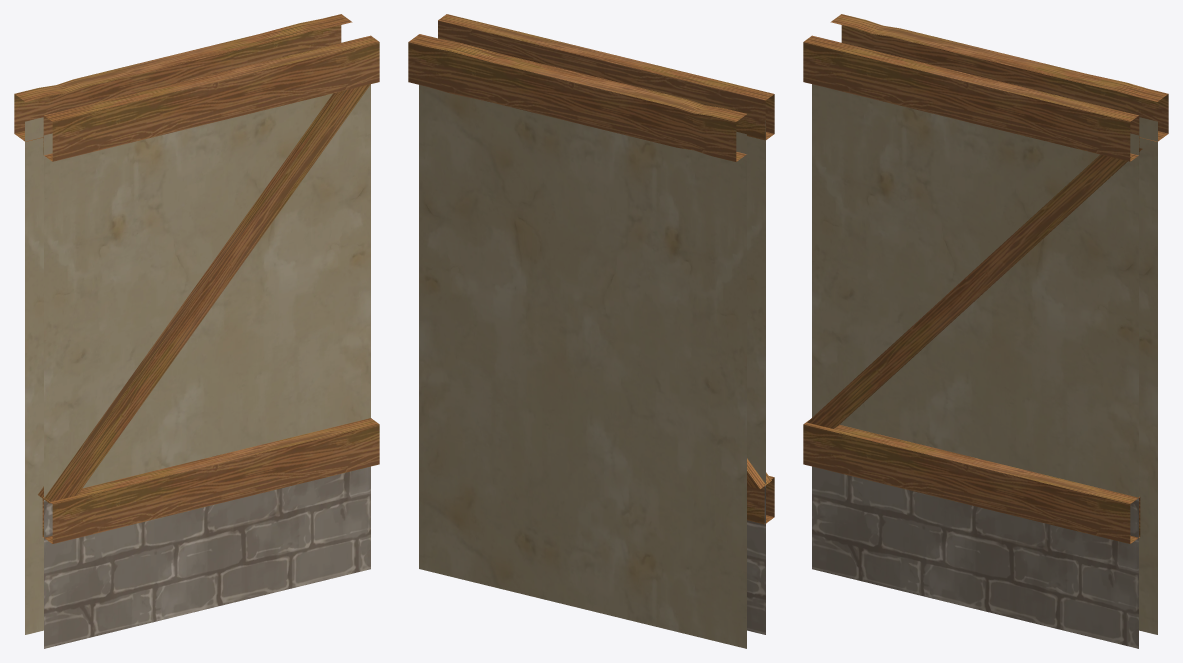
The model's file is Wall_Plaster_Straight_R.glb.
The picture shows the model from 3 angles, left to right: view 1: azimuth 30°, elevation 25°; view 2: azimuth 150°, elevation 25°; view 3: azimuth 330°, elevation 25°; orthographic projection.
Parts seen in each view (by area): view 1: Wall_Plaster_Straight_R; view 2: Wall_Plaster_Straight_R; view 3: Wall_Plaster_Straight_R.
Part boxes in pixels (x1,y1,x2,y2): Wall_Plaster_Straight_R: (14,14,379,648); Wall_Plaster_Straight_R: (408,14,774,648); Wall_Plaster_Straight_R: (803,14,1168,648).
Size of the model in its own units: 2 by 3.12 by 0.4064.
3 materials, 3 textured.
